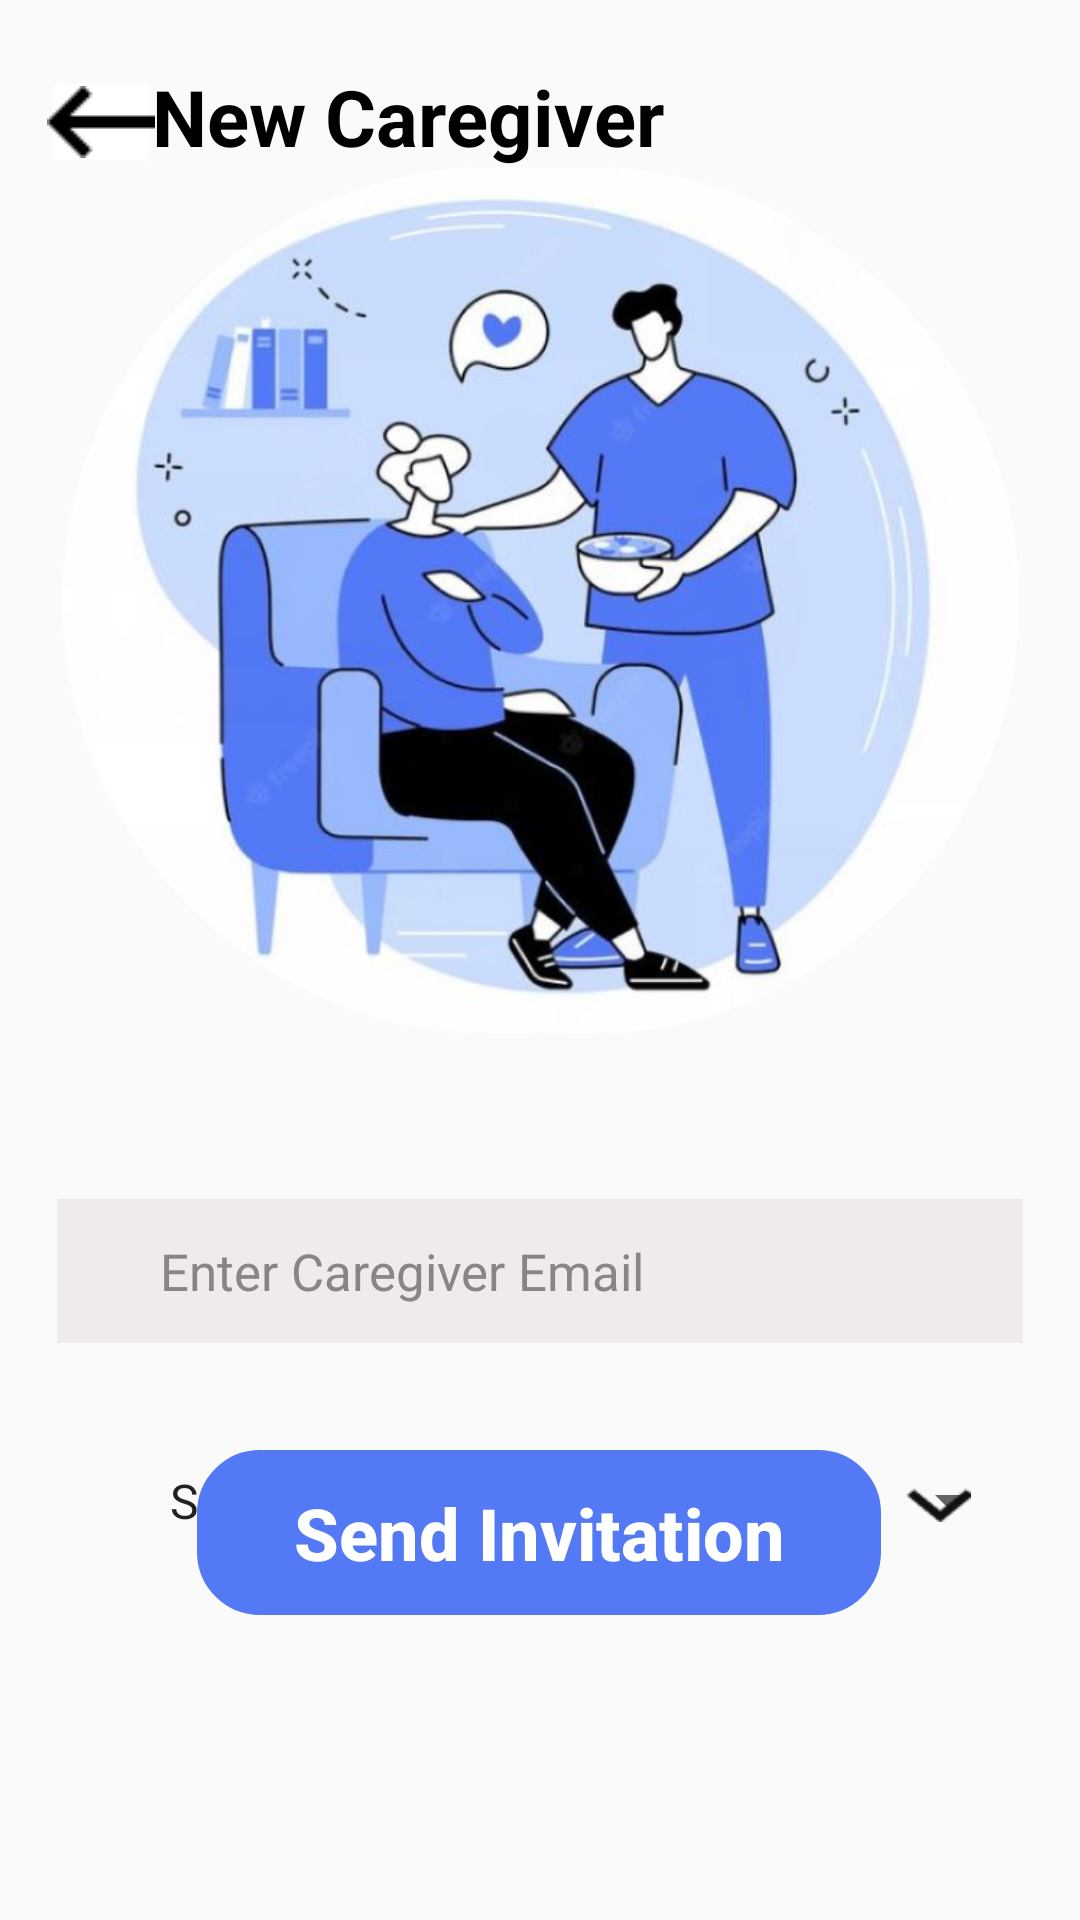

Icons on this 1080 × 1920 Android screen, each with the point to tap as [x,y]:
back: [101,122]
dropicon: [939,1505]
